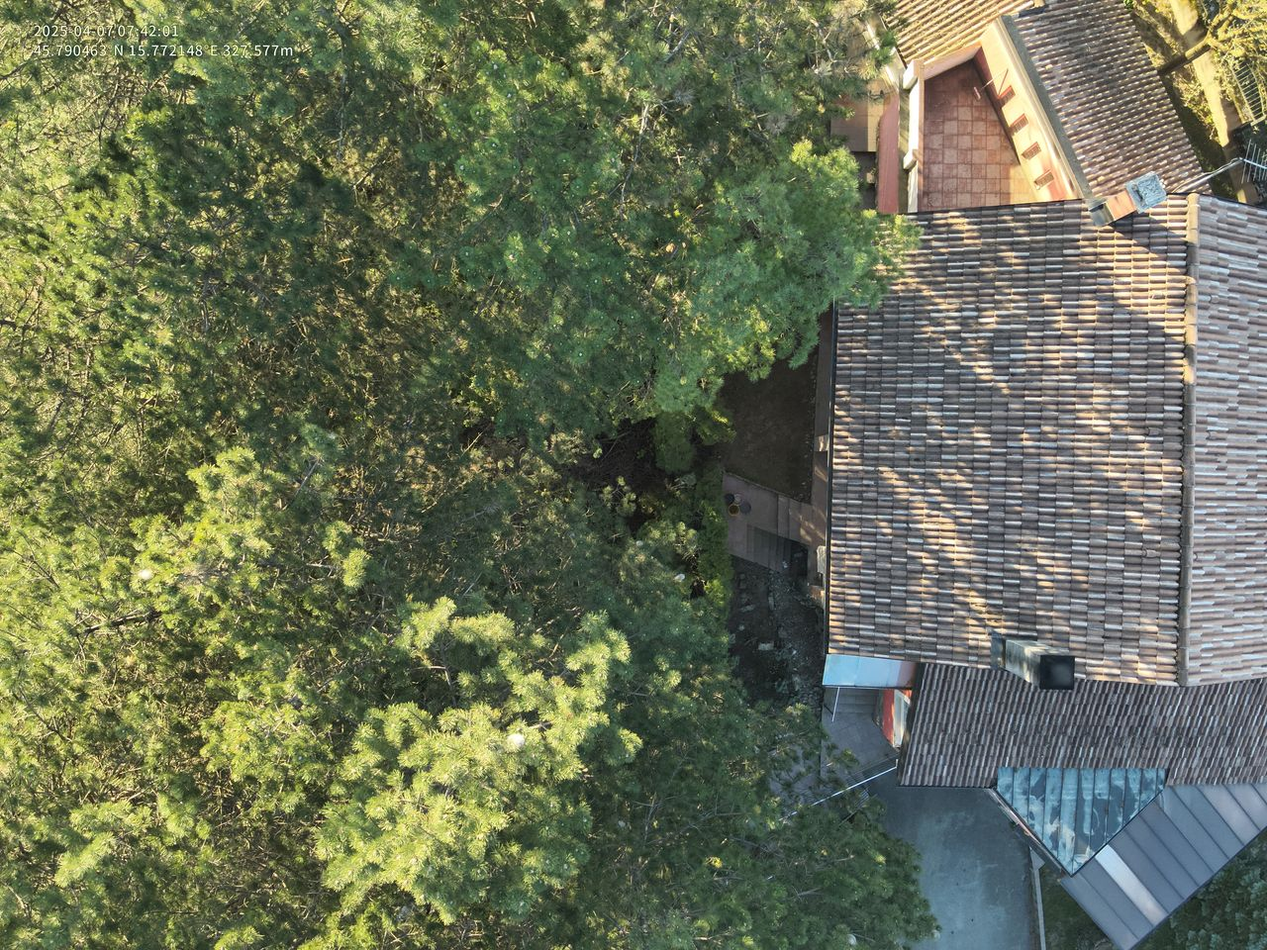thaumatopoea pityocampa jajno gnijezdo: (505, 732, 529, 758), (134, 566, 157, 585)
